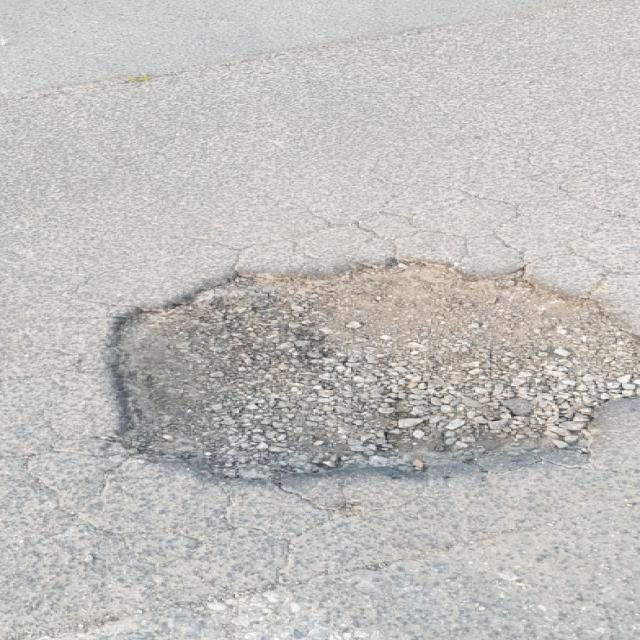Pothole: (93, 249, 640, 486)
